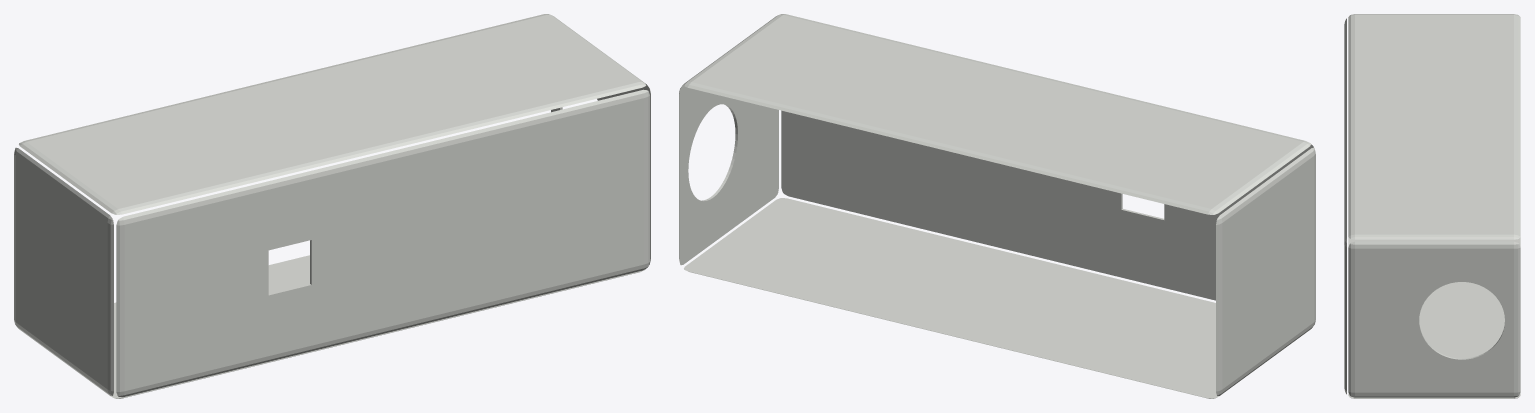
File: cover.glb
3 views of the same model, side by side, from view 1: azimuth 30°, elevation 25°; view 2: azimuth 150°, elevation 25°; view 3: azimuth 270°, elevation 25° (orthographic). The views are drawn at different scales.
Parts seen in each view (by area): view 1: nacelle_cover; view 2: nacelle_cover; view 3: nacelle_cover.
Part boxes in pixels (x1,y1,x2,y2): nacelle_cover: [14, 14, 650, 398]; nacelle_cover: [679, 14, 1315, 398]; nacelle_cover: [1344, 14, 1520, 398].
Bounding box in the file's own units: 12.6 × 4.2 × 4.11.
1 material, 1 textured.
